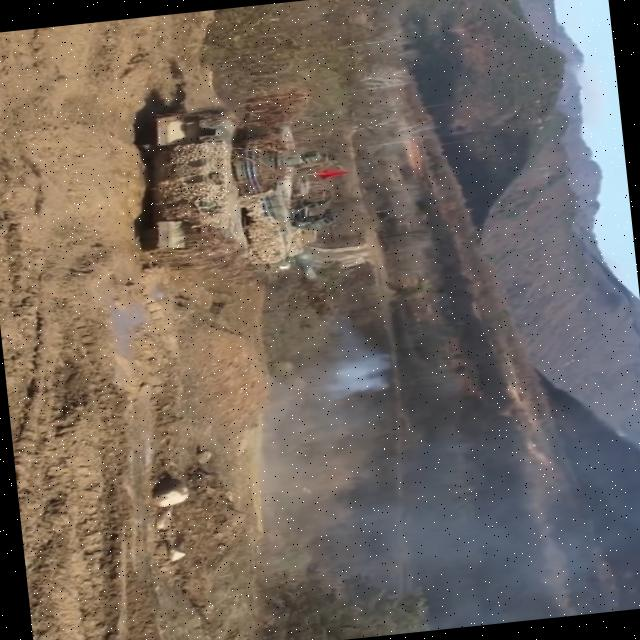korea tank: (120, 78, 352, 336)
